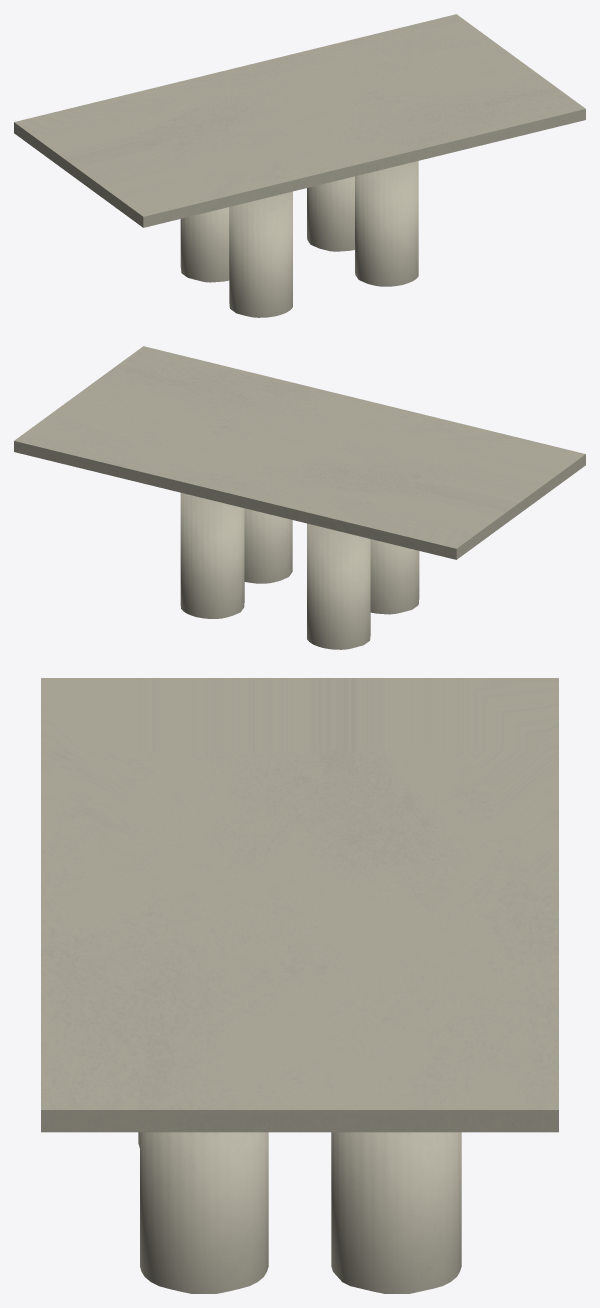
File: silk_recta_standard_grove.glb
3 views of the same model, one above another, from view 1: azimuth 30°, elevation 25°; view 2: azimuth 150°, elevation 25°; view 3: azimuth 270°, elevation 25° (orthographic). The views are drawn at different scales.
Visible parts, largest first — view 1: silk_rectastandard_grove; view 2: silk_rectastandard_grove; view 3: silk_rectastandard_grove.
Part boxes in pixels (bbox=[...]): silk_rectastandard_grove: bbox=[14, 14, 585, 317]; silk_rectastandard_grove: bbox=[14, 346, 585, 649]; silk_rectastandard_grove: bbox=[41, 678, 558, 1293].
Size of the model in its own units: 7.5 by 2.52 by 3.8.
1 material, 1 textured.
